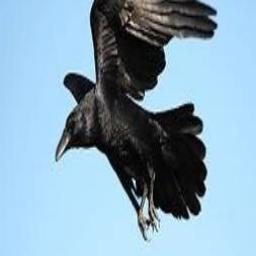Crow: (57, 0, 219, 242)
